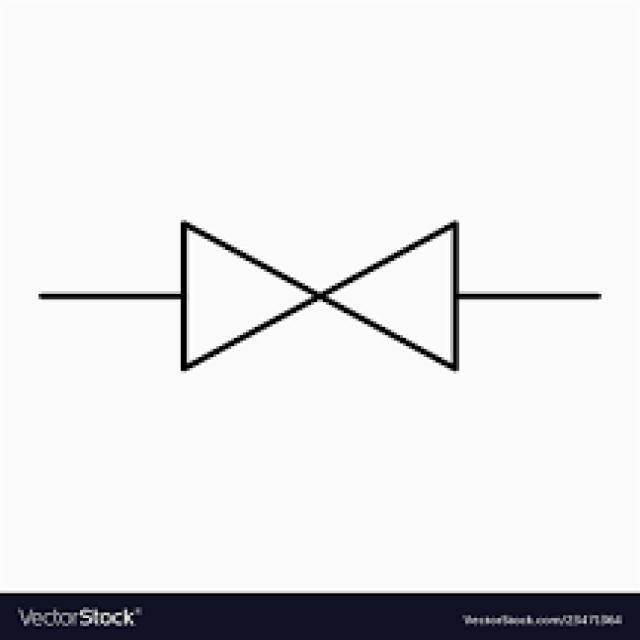Gate Valve: (137, 124, 512, 404)
